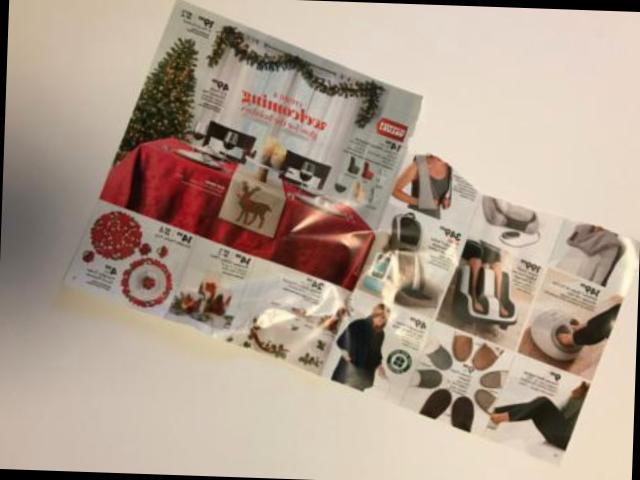cardboard paper: (68, 0, 640, 456)
